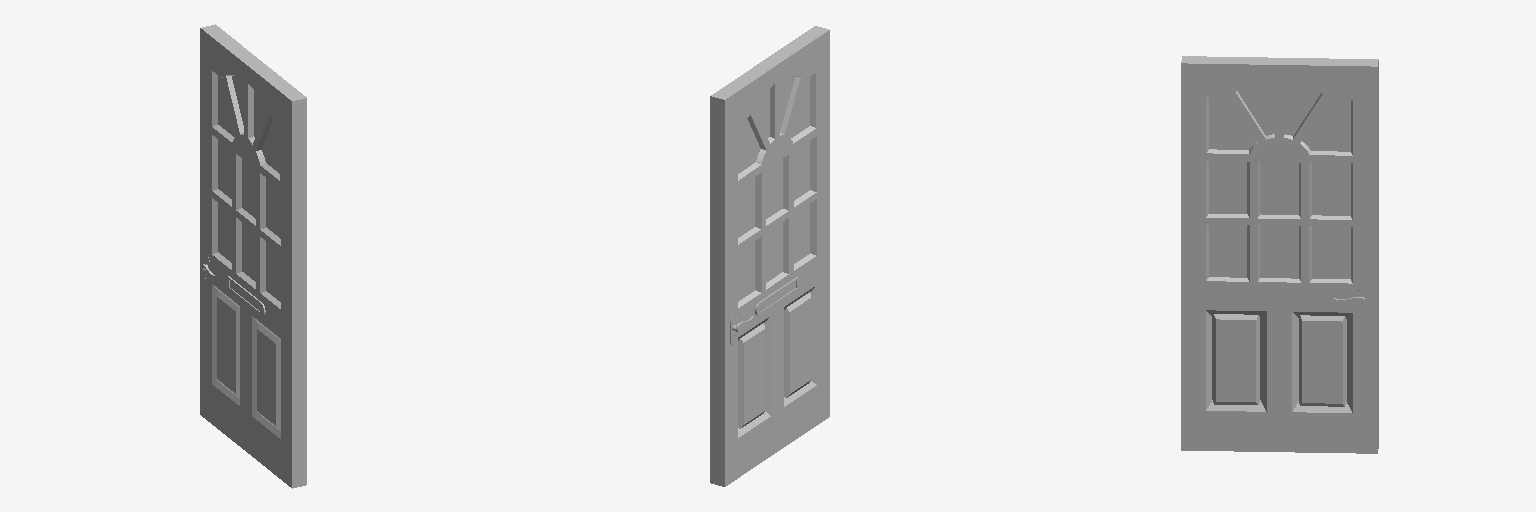
Rendered from door2_000018.obj.
The picture shows the model from 3 angles: view 1: azimuth 30°, elevation 25°; view 2: azimuth 150°, elevation 25°; view 3: azimuth 270°, elevation 25°; orthographic projection.
Parts seen in each view (by area): view 1: Door.000_Door.004; view 2: Door.000_Door.004; view 3: Door.000_Door.004.
Boxes of the visible parts, x1,y1,x2,y2 form: Door.000_Door.004: [200, 24, 306, 488]; Door.000_Door.004: [710, 26, 829, 486]; Door.000_Door.004: [1181, 56, 1378, 453].
Bounding box in the file's own units: 0.1189 × 1.6 × 0.7414.